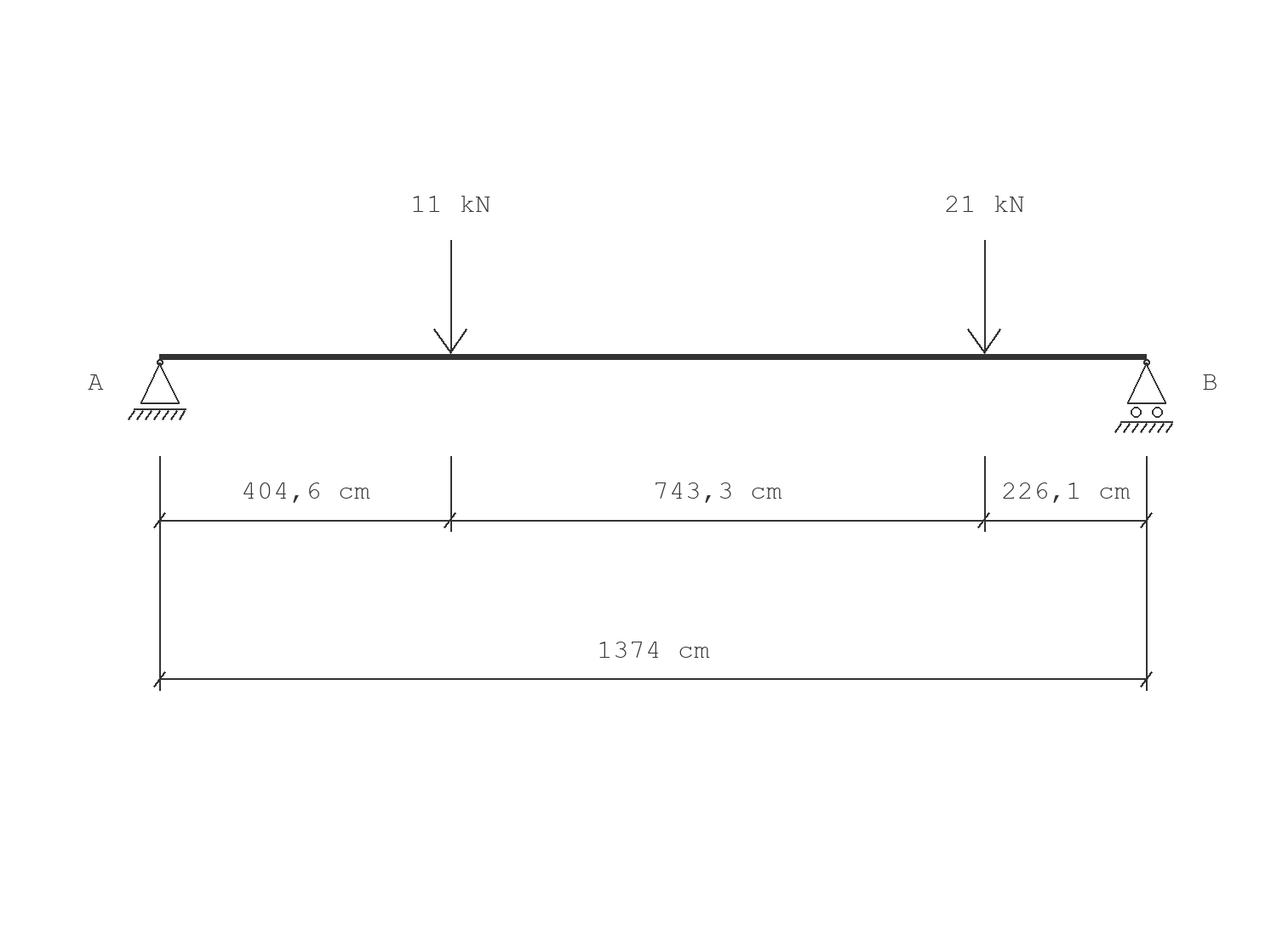pin_support: (128, 359, 186, 420)
point_load: (433, 240, 467, 354), (967, 240, 1001, 354)
roller_support: (1114, 359, 1173, 433)
